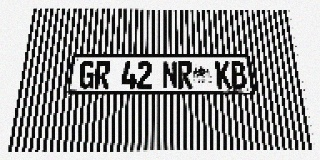2: (137, 61, 152, 89)
4: (121, 61, 137, 89)
B: (230, 61, 247, 89)
G: (78, 61, 96, 89)
K: (215, 61, 232, 89)
N: (162, 61, 178, 89)
R: (94, 61, 111, 89), (177, 61, 193, 89)
